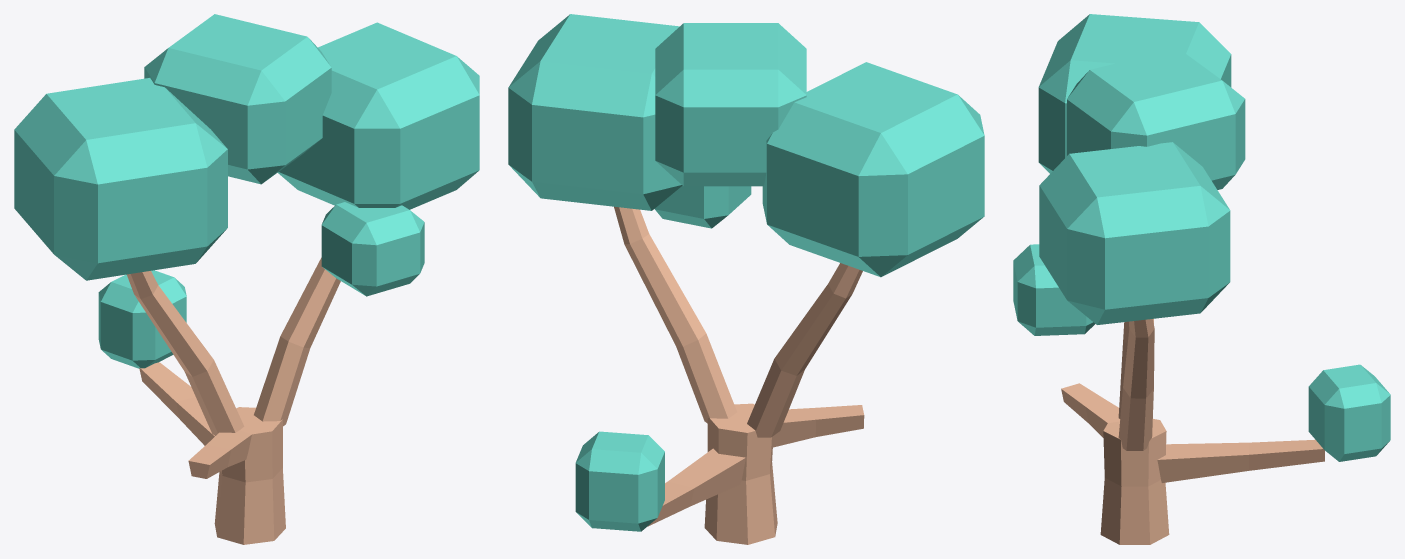
File: climbtree_fork.glb
3 views of the same model, side by side, from view 1: azimuth 30°, elevation 25°; view 2: azimuth 150°, elevation 25°; view 3: azimuth 270°, elevation 25° (orthographic). The views are drawn at different scales.
Parts seen in each view (by area): view 1: climbtree_fork; view 2: climbtree_fork; view 3: climbtree_fork.
Part boxes in pixels (x1,y1,x2,y2): climbtree_fork: [14, 14, 479, 544]; climbtree_fork: [508, 14, 984, 544]; climbtree_fork: [1013, 14, 1390, 544].
Bounding box in the file's own units: 6.72 × 7.15 × 5.36.
